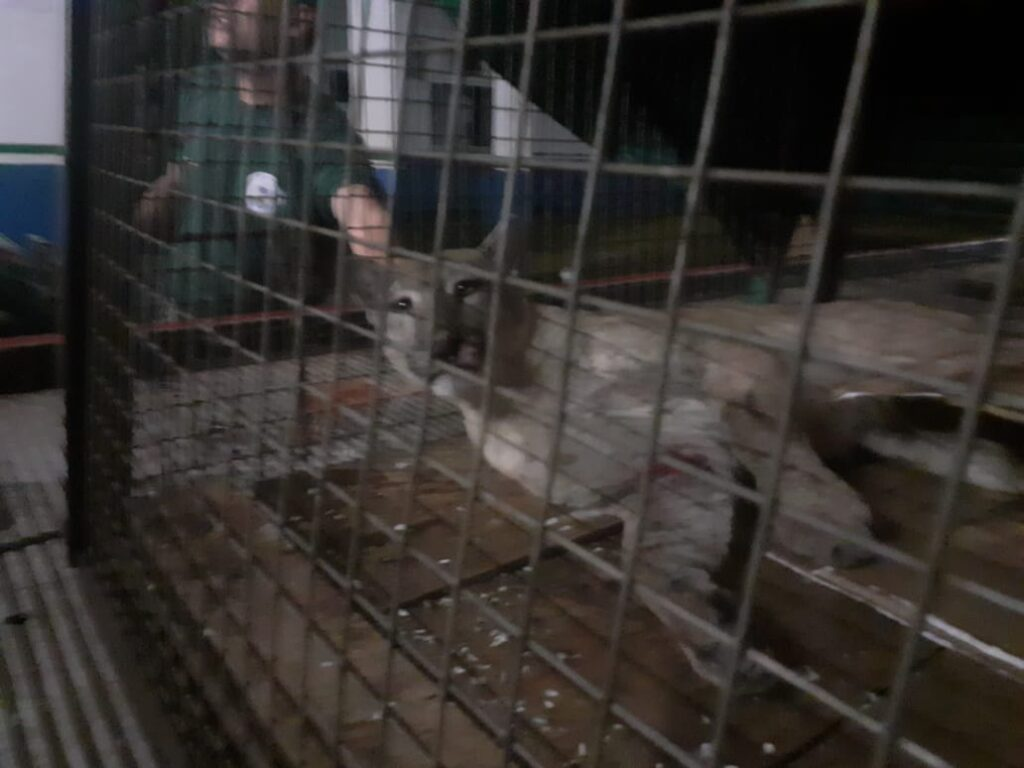OncaParda: (316, 204, 999, 703)
